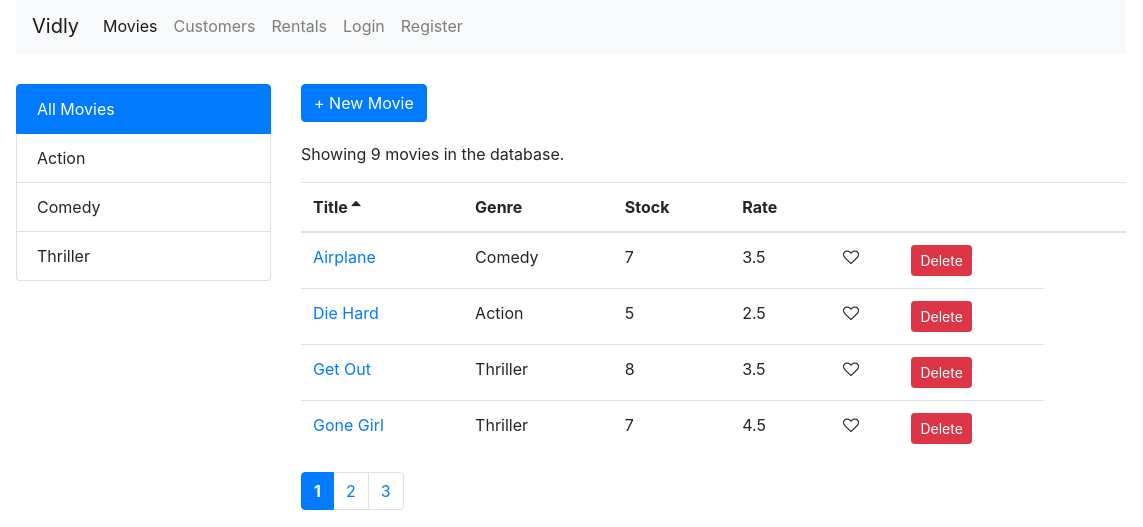
Test: Vidly › clicking on Customers link displays the customers page
Click the link "Customers" at (215, 26), box top-left (174, 16), bottom-right (256, 36)
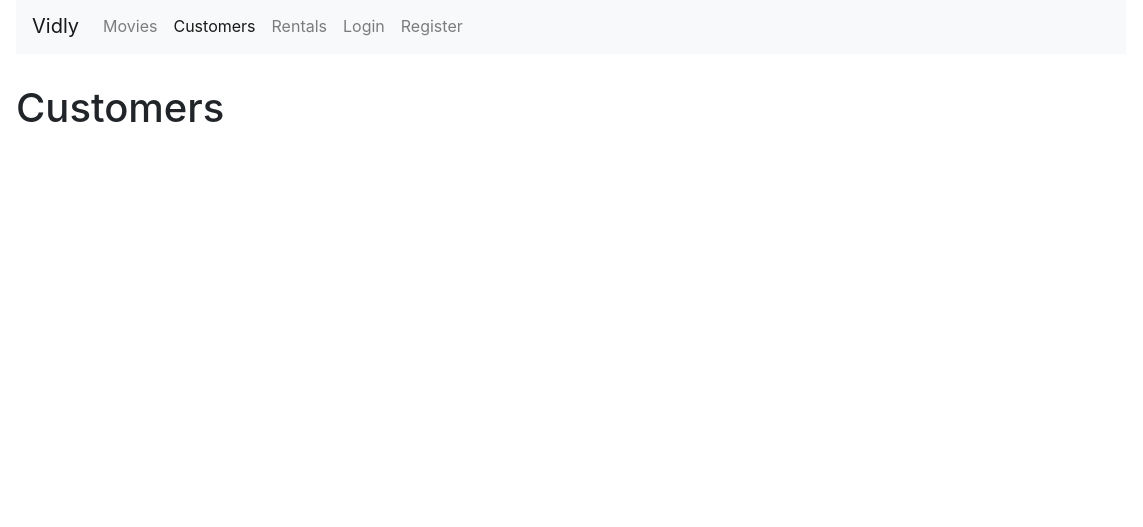
Check: the heading "Customers" is shown, box top-left (16, 83), bottom-right (224, 132)
